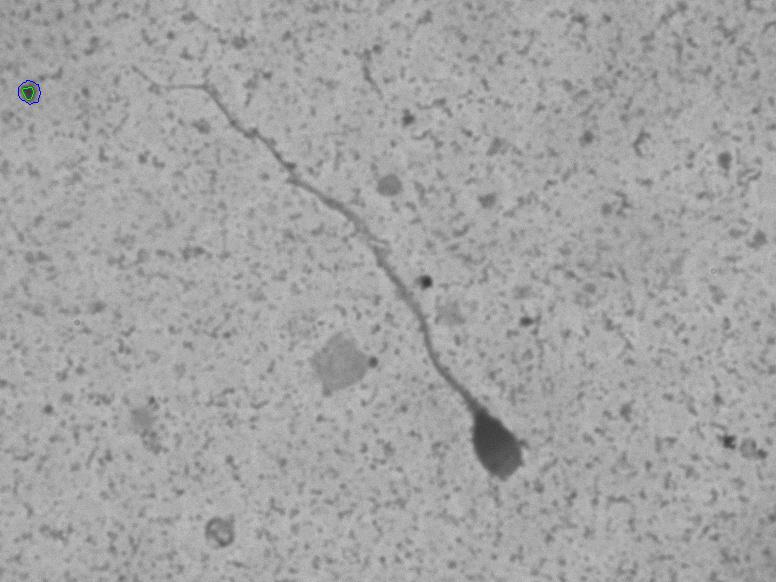Normal: (118, 58, 538, 492)
